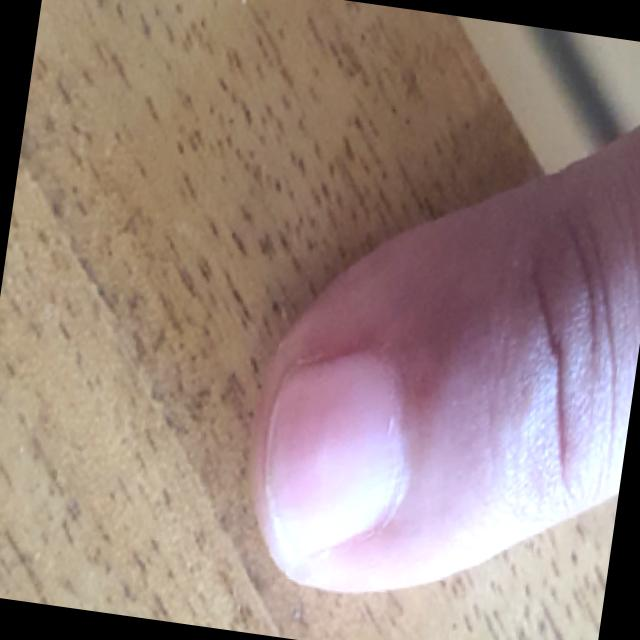Nail: (261, 351, 401, 560)
